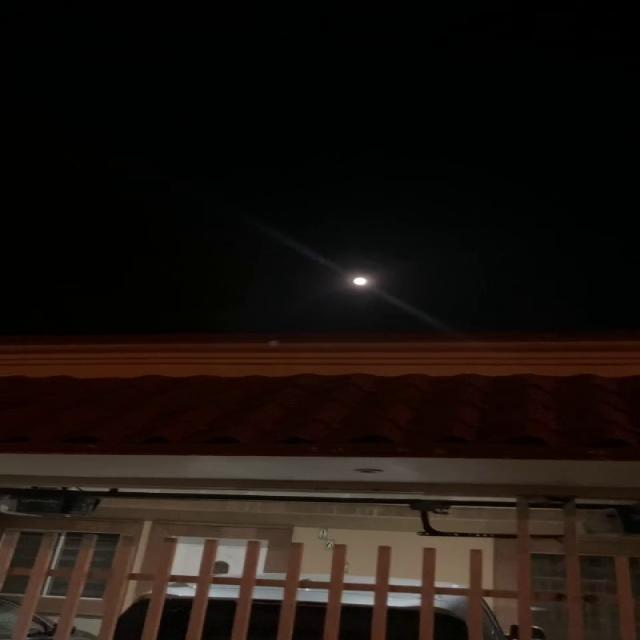moon: (347, 267, 380, 296)
